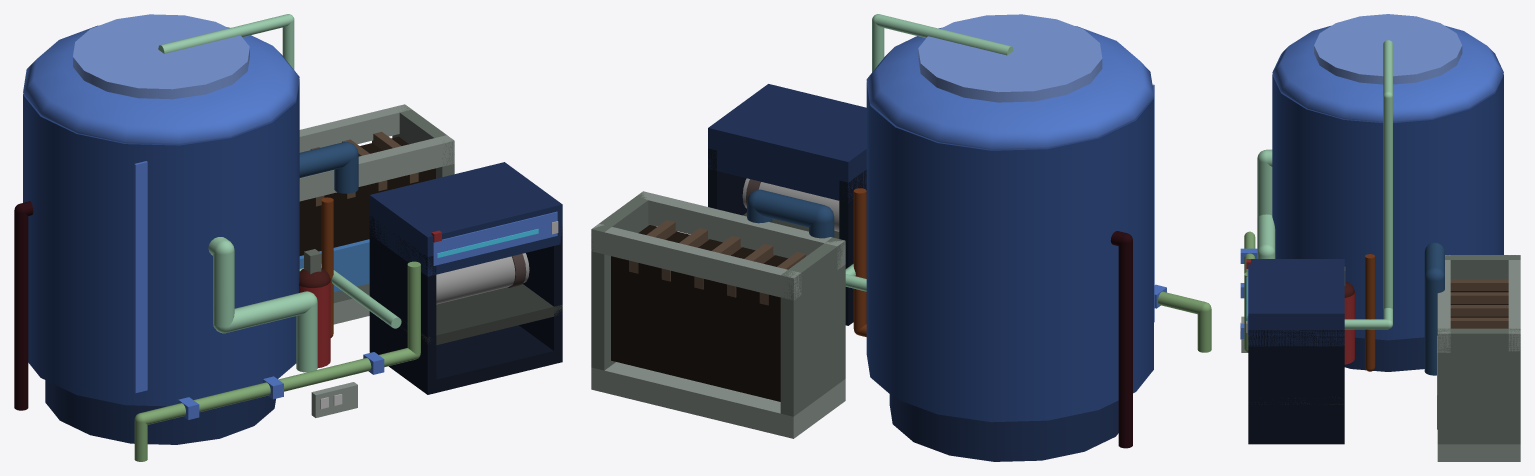
File: CMU3DFiltrationSedimentationAlt.glb
3 renders of one model, left to right at view 1: azimuth 30°, elevation 25°; view 2: azimuth 150°, elevation 25°; view 3: azimuth 270°, elevation 25°, orthographic. The views are drawn at different scales.
Parts seen in each view (by area): view 1: large single vessel blue barrel, large single vessel domed shoulder, blue controller housing, large single vessel top inspection lid, large single vessel pedestal foot ring, pump rack left upright, pump rack bottom, green base manifold tube (×3), large vessel mint outlet tube (×3), pump rack motor shelf, small rear right filter bed dark filter well, small rear right filter bed front upper beam (+15 smaller); view 2: large single vessel blue barrel, small rear right filter bed dark filter well, large single vessel domed shoulder, blue controller housing, large single vessel top inspection lid, small rear right filter bed left rim, large single vessel pedestal foot ring, small rear right filter bed lower foundation, small rear right filter bed rear rim, small rear right filter bed front upper beam, small rear right filter bed right rim, rear red supply riser tube (+7 smaller); view 3: large single vessel blue barrel, pump rack right upright, large single vessel domed shoulder, small rear right filter bed right rim, blue controller housing, large single vessel top inspection lid, large vessel top return tube (×3), small rear right filter bed brown filter bar (×4), large single vessel pedestal foot ring, small rear right filter bed dark blue transfer tube (×3), small rear right filter bed left rim, small rear right filter bed lower foundation (+6 smaller).
Boxes of the visible parts, left/top/right/bottom form: large single vessel blue barrel: left=23, top=79, right=299, bottom=406; large single vessel domed shoulder: left=23, top=25, right=299, bottom=144; blue controller housing: left=369, top=162, right=562, bottom=276; large single vessel top inspection lid: left=73, top=14, right=249, bottom=99; large single vessel pedestal foot ring: left=45, top=380, right=275, bottom=444; pump rack left upright: left=369, top=216, right=436, bottom=394; pump rack bottom: left=369, top=325, right=562, bottom=394; green base manifold tube (×3): left=134, top=261, right=420, bottom=461; large vessel mint outlet tube (×3): left=213, top=250, right=317, bottom=372; pump rack motor shelf: left=398, top=284, right=562, bottom=345; small rear right filter bed dark filter well: left=299, top=136, right=435, bottom=255; small rear right filter bed front upper beam: left=299, top=135, right=454, bottom=201; large single vessel blue barrel: left=866, top=82, right=1153, bottom=422; small rear right filter bed dark filter well: left=611, top=225, right=787, bottom=401; large single vessel domed shoulder: left=866, top=26, right=1153, bottom=149; blue controller housing: left=708, top=84, right=866, bottom=202; large single vessel top inspection lid: left=918, top=14, right=1102, bottom=102; small rear right filter bed left rim: left=780, top=237, right=845, bottom=416; large single vessel pedestal foot ring: left=889, top=394, right=1118, bottom=461; small rear right filter bed lower foundation: left=591, top=362, right=845, bottom=438; small rear right filter bed rear rim: left=591, top=223, right=801, bottom=299; small rear right filter bed front upper beam: left=639, top=191, right=845, bottom=269; small rear right filter bed right rim: left=591, top=191, right=655, bottom=370; rear red supply riser tube: left=1118, top=241, right=1132, bottom=448; large single vessel blue barrel: left=1272, top=74, right=1503, bottom=340; pump rack right upright: left=1248, top=330, right=1344, bottom=444; large single vessel domed shoulder: left=1272, top=25, right=1503, bottom=122; small rear right filter bed right rim: left=1437, top=328, right=1520, bottom=444; blue controller housing: left=1248, top=259, right=1344, bottom=346; large single vessel top inspection lid: left=1314, top=14, right=1462, bottom=84; large vessel top return tube (×3): left=1344, top=40, right=1392, bottom=329; small rear right filter bed brown filter bar (×4): left=1450, top=279, right=1508, bottom=328; large single vessel pedestal foot ring: left=1344, top=337, right=1424, bottom=371; small rear right filter bed dark blue transfer tube (×3): left=1424, top=243, right=1444, bottom=375; small rear right filter bed left rim: left=1445, top=255, right=1520, bottom=279; small rear right filter bed lower foundation: left=1437, top=444, right=1520, bottom=461.
Bounding box in the file's own units: 2.9 × 2.13 × 1.86.
